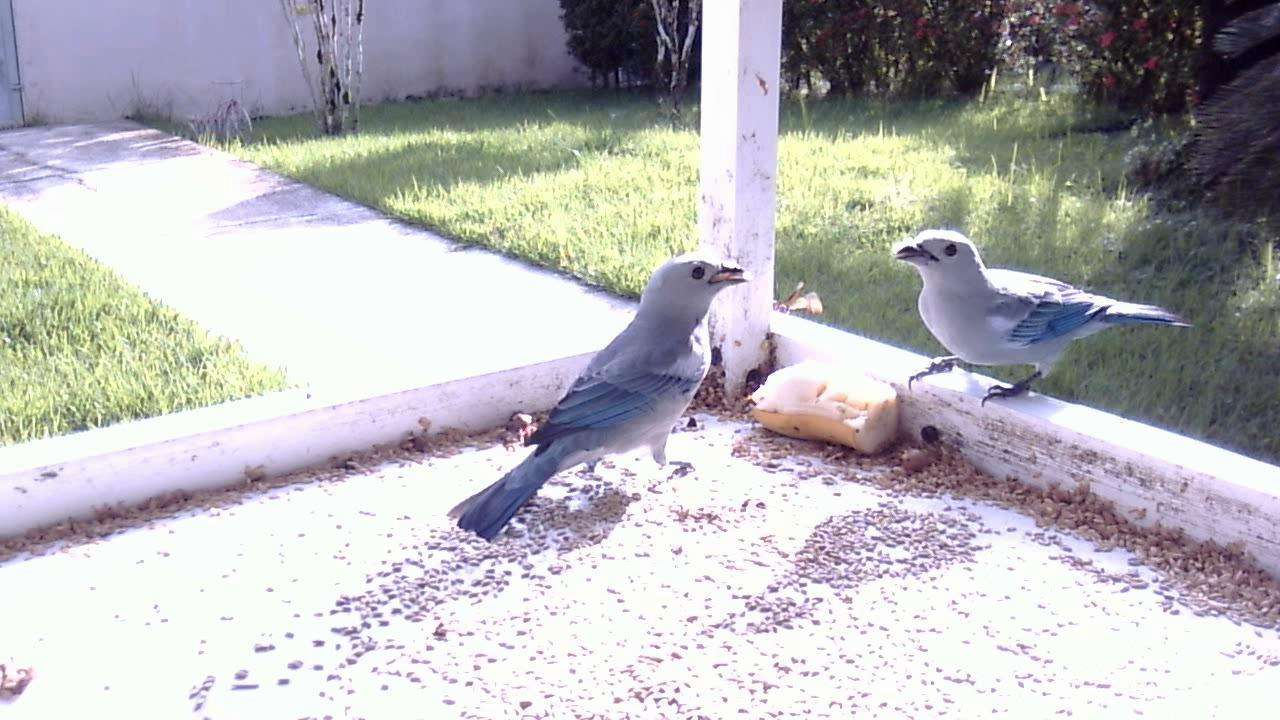sanhaco_da_amazonia: (438, 252, 748, 545), (889, 228, 1194, 417)
